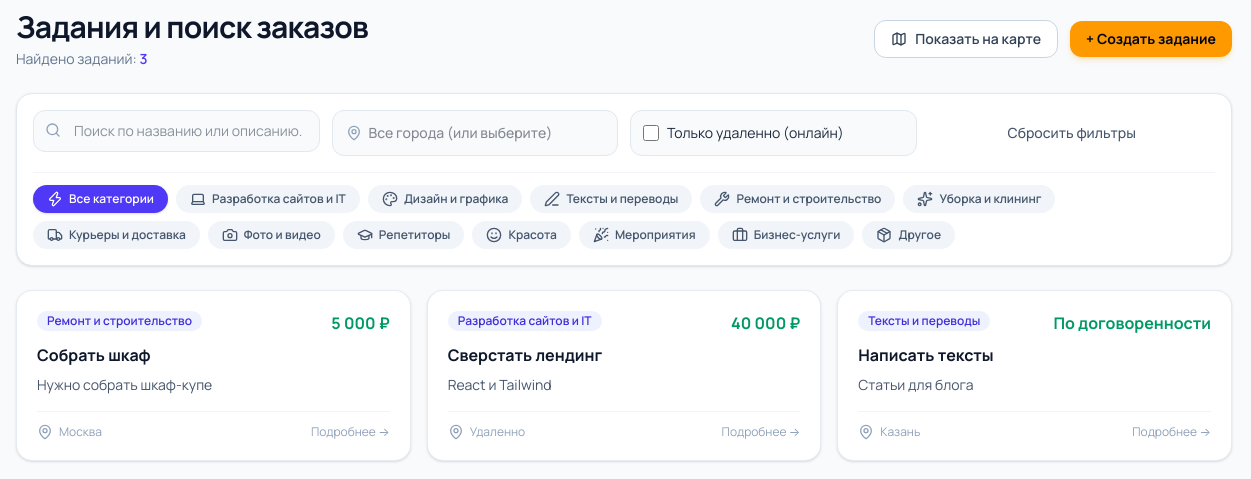
Test case: TasksPage › поиск фильтрует по названию и описанию
This screenshot has width=1251, height=479.
Type "статьи" into the field with placeholder "Поиск по названию или описанию...". click: (176,131)
box: x1=33 y1=110 x2=320 y2=152
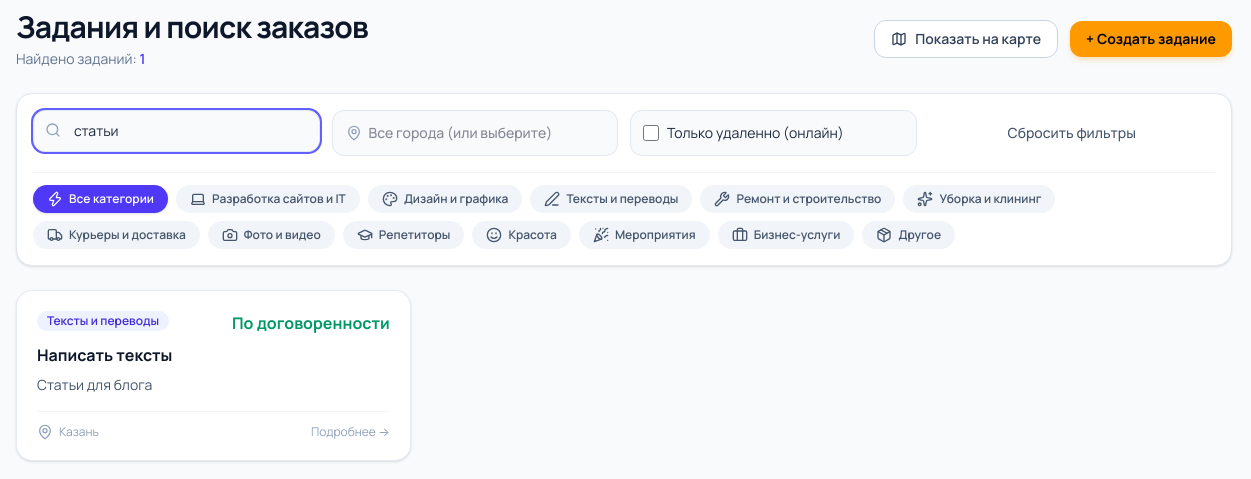
Check: the heading "Написать тексты" is shown, box x1=37 y1=344 x2=172 y2=366
Check: the heading "Собрать шкаф" is gone
Check: the heading "Сверстать лендинг" is gone
